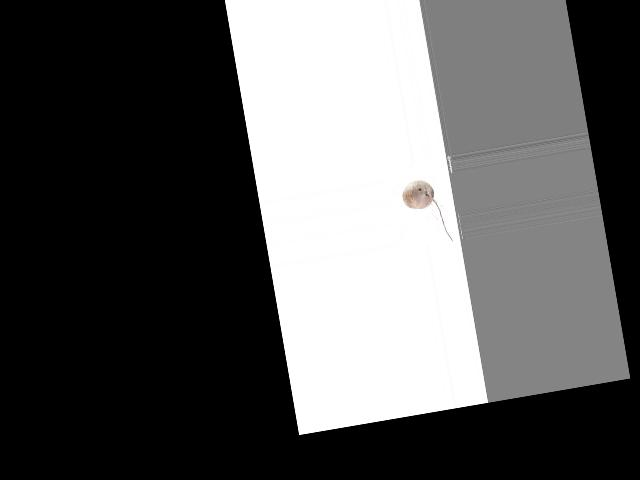beet: (400, 176, 453, 248)
